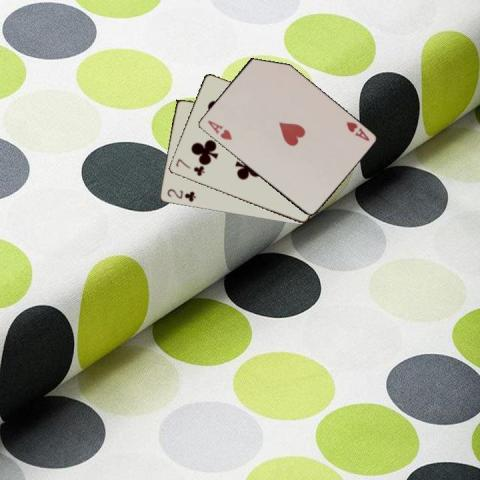2c: (164, 186, 197, 203)
7c: (173, 156, 206, 177)
Ah: (205, 118, 233, 142), (343, 118, 371, 142)
